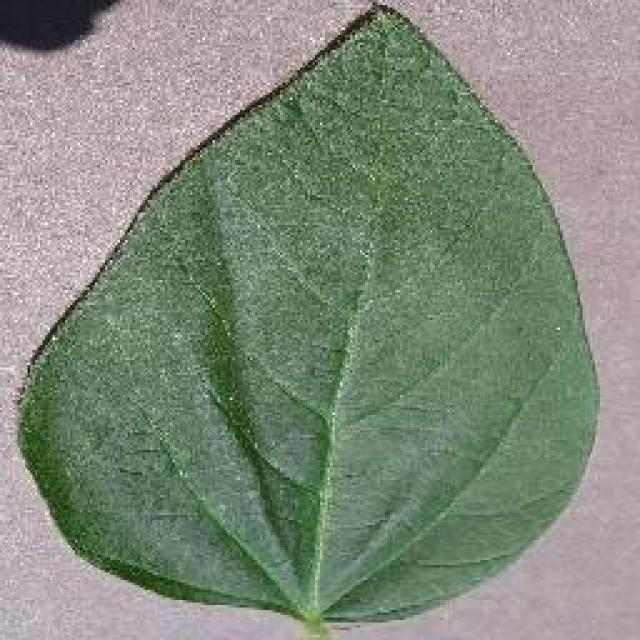Soy_healthy: (116, 80, 596, 564)
